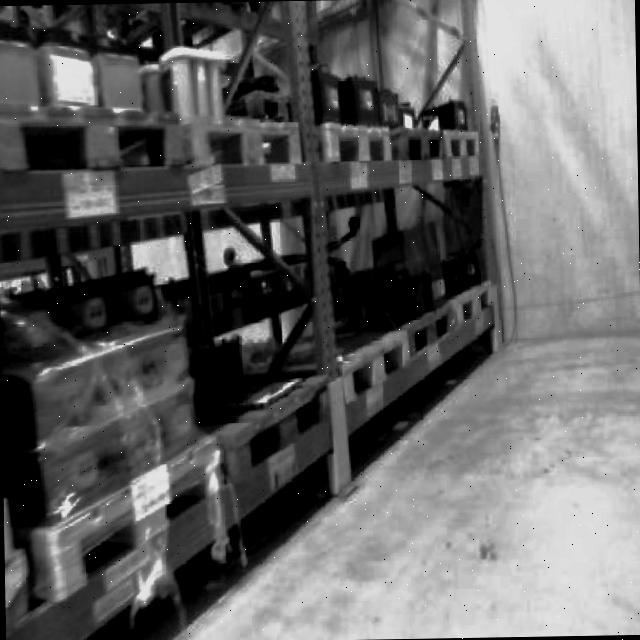ground: (114, 328, 640, 640)
